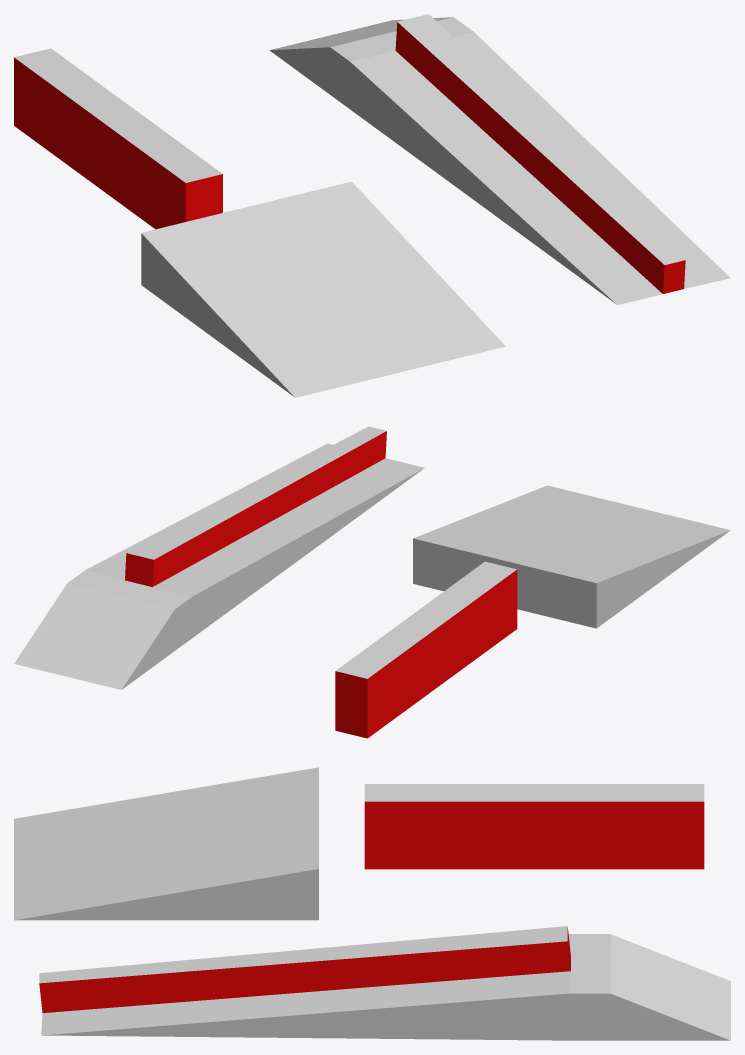
Rendered from box+features.fbx.
3 renders of one model, top to bottom at view 1: azimuth 30°, elevation 25°; view 2: azimuth 150°, elevation 25°; view 3: azimuth 270°, elevation 25°, orthographic. The views are drawn at different scales.
Parts seen in each view (by area): view 1: Model; view 2: Model; view 3: Model.
Part boxes in pixels (x1,y1,x2,y2): Model: (14,14,730,397); Model: (14,426,730,738); Model: (14,767,730,1040).
Size of the model in its own units: 95.1 by 15.39 by 130.
